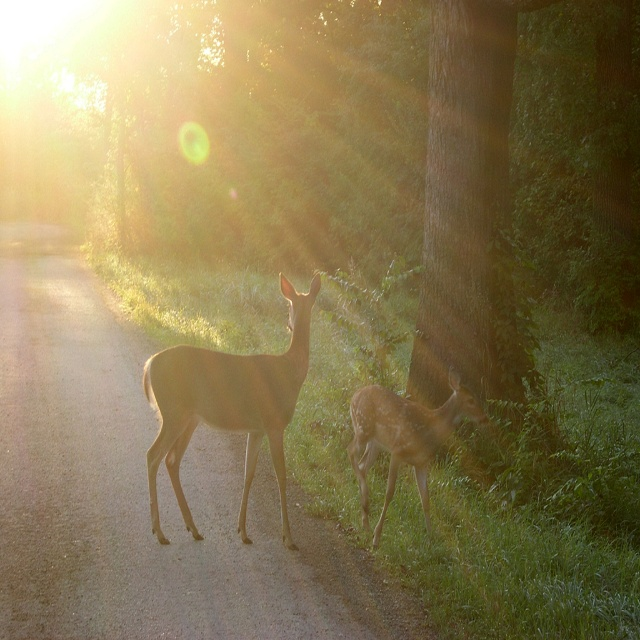Deer: (148, 273, 319, 551), (352, 368, 490, 551)
